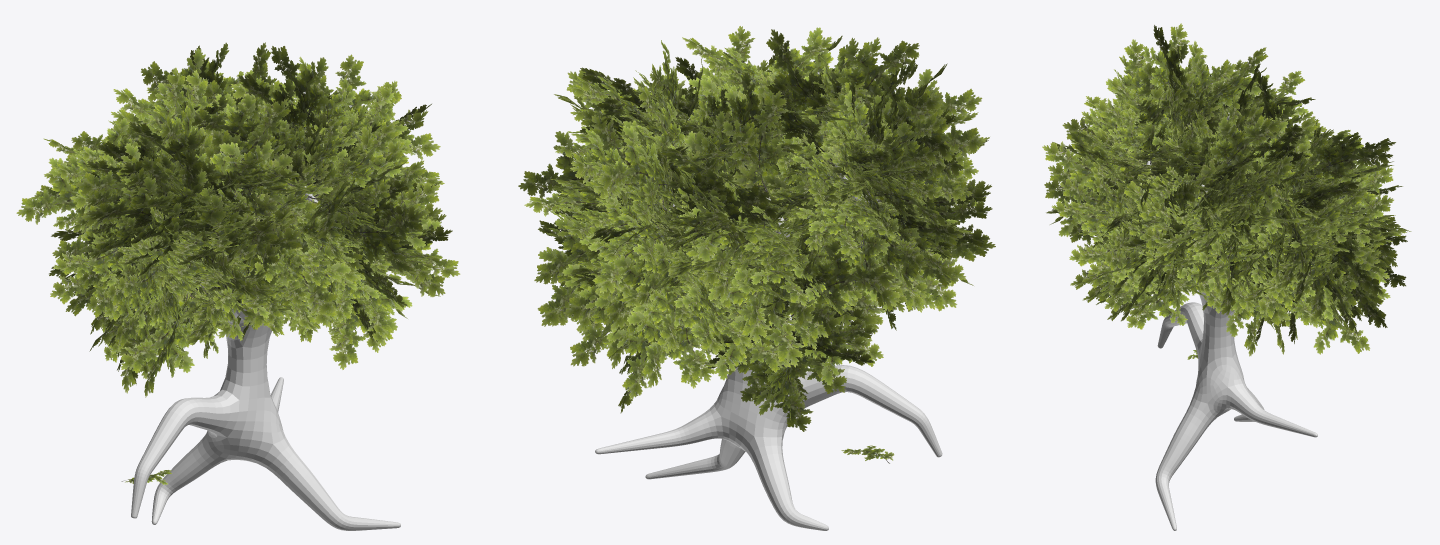
Rendered from tree56.fbx.
The picture shows the model from 3 angles, left to right: view 1: azimuth 30°, elevation 25°; view 2: azimuth 150°, elevation 25°; view 3: azimuth 270°, elevation 25°; orthographic projection. The views are drawn at different scales.
Parts seen in each view (by area): view 1: Plane, Plane|Branche|Dupli|2103, Plane|Branche|Dupli|767, Plane|Branche|Dupli|2835, Plane|Branche|Dupli|2159, Plane|Branche|Dupli|176, Plane|Branche|Dupli|1263, Plane|Branche|Dupli|1332, Plane|Branche|Dupli|2058, Plane|Branche|Dupli|379, Plane|Branche|Dupli|1251, Plane|Branche|Dupli|217 (+53 smaller); view 2: Plane, Plane|Branche|Dupli|387, Plane|Branche|Dupli|2991, Plane|Branche|Dupli|2667, Plane|Branche|Dupli|1983, Plane|Branche|Dupli|379, Plane|Branche|Dupli|2992, Plane|Branche|Dupli|543, Plane|Branche|Dupli|2577, Plane|Branche|Dupli|2472, Plane|Branche|Dupli|2386, Plane|Branche|Dupli|2412 (+74 smaller); view 3: Plane, Plane|Branche|Dupli|2835, Plane|Branche|Dupli|1983, Plane|Branche|Dupli|2675, Plane|Branche|Dupli|2161, Plane|Branche|Dupli|2666, Plane|Branche|Dupli|2794, Plane|Branche|Dupli|2551, Plane|Branche|Dupli|618, Plane|Branche|Dupli|529, Plane|Branche|Dupli|2106, Plane|Branche|Dupli|2667 (+49 smaller).
Part boxes in pixels (x1,y1,x2,y2): Plane: [131, 186, 400, 530]; Plane|Branche|Dupli|2103: [343, 203, 423, 272]; Plane|Branche|Dupli|767: [120, 289, 200, 373]; Plane|Branche|Dupli|2835: [271, 46, 331, 137]; Plane|Branche|Dupli|2159: [314, 123, 401, 200]; Plane|Branche|Dupli|176: [16, 157, 91, 230]; Plane|Branche|Dupli|1263: [212, 130, 277, 223]; Plane|Branche|Dupli|1332: [88, 176, 180, 228]; Plane|Branche|Dupli|2058: [191, 94, 279, 143]; Plane|Branche|Dupli|379: [229, 99, 290, 165]; Plane|Branche|Dupli|1251: [274, 234, 351, 327]; Plane|Branche|Dupli|217: [53, 233, 134, 286]; Plane: [595, 117, 942, 530]; Plane|Branche|Dupli|387: [721, 90, 789, 196]; Plane|Branche|Dupli|2991: [791, 242, 894, 316]; Plane|Branche|Dupli|2667: [828, 40, 919, 117]; Plane|Branche|Dupli|1983: [597, 125, 672, 204]; Plane|Branche|Dupli|379: [758, 29, 819, 111]; Plane|Branche|Dupli|2992: [740, 333, 813, 431]; Plane|Branche|Dupli|543: [518, 131, 629, 198]; Plane|Branche|Dupli|2577: [606, 306, 657, 399]; Plane|Branche|Dupli|2472: [701, 315, 791, 380]; Plane|Branche|Dupli|2386: [579, 227, 660, 293]; Plane|Branche|Dupli|2412: [646, 322, 717, 381]; Plane: [1140, 115, 1317, 530]; Plane|Branche|Dupli|2835: [1200, 118, 1280, 187]; Plane|Branche|Dupli|1983: [1298, 133, 1392, 182]; Plane|Branche|Dupli|2675: [1195, 47, 1268, 120]; Plane|Branche|Dupli|2161: [1042, 141, 1140, 199]; Plane|Branche|Dupli|2666: [1143, 23, 1189, 114]; Plane|Branche|Dupli|2794: [1236, 155, 1293, 214]; Plane|Branche|Dupli|2551: [1309, 313, 1370, 354]; Plane|Branche|Dupli|618: [1126, 287, 1189, 329]; Plane|Branche|Dupli|529: [1281, 180, 1359, 217]; Plane|Branche|Dupli|2106: [1051, 198, 1131, 242]; Plane|Branche|Dupli|2667: [1153, 25, 1190, 109].
Size of the model in its own units: 1309 by 1541 by 1297.
